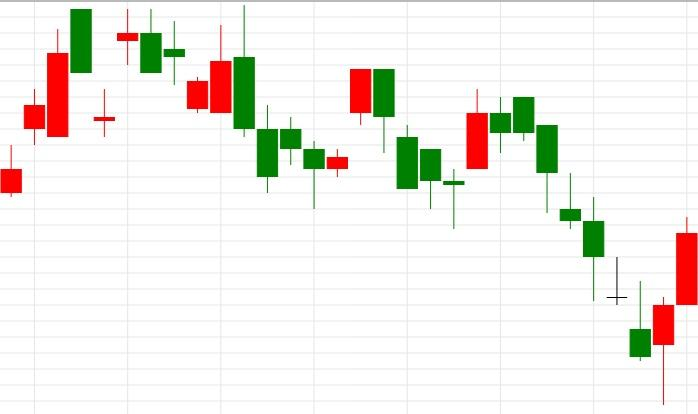bearish_engulfing_fall: (303, 68, 395, 209)
inverse_hammer_rise: (513, 97, 651, 361)
